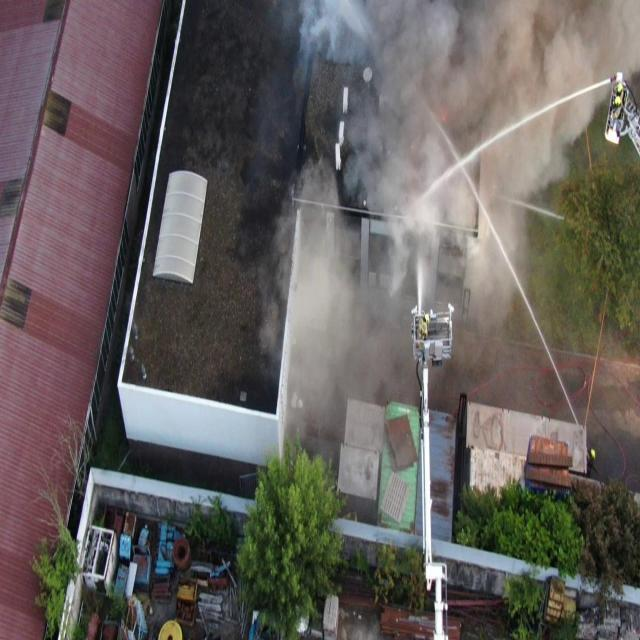Smoke: (255, 0, 640, 436)
